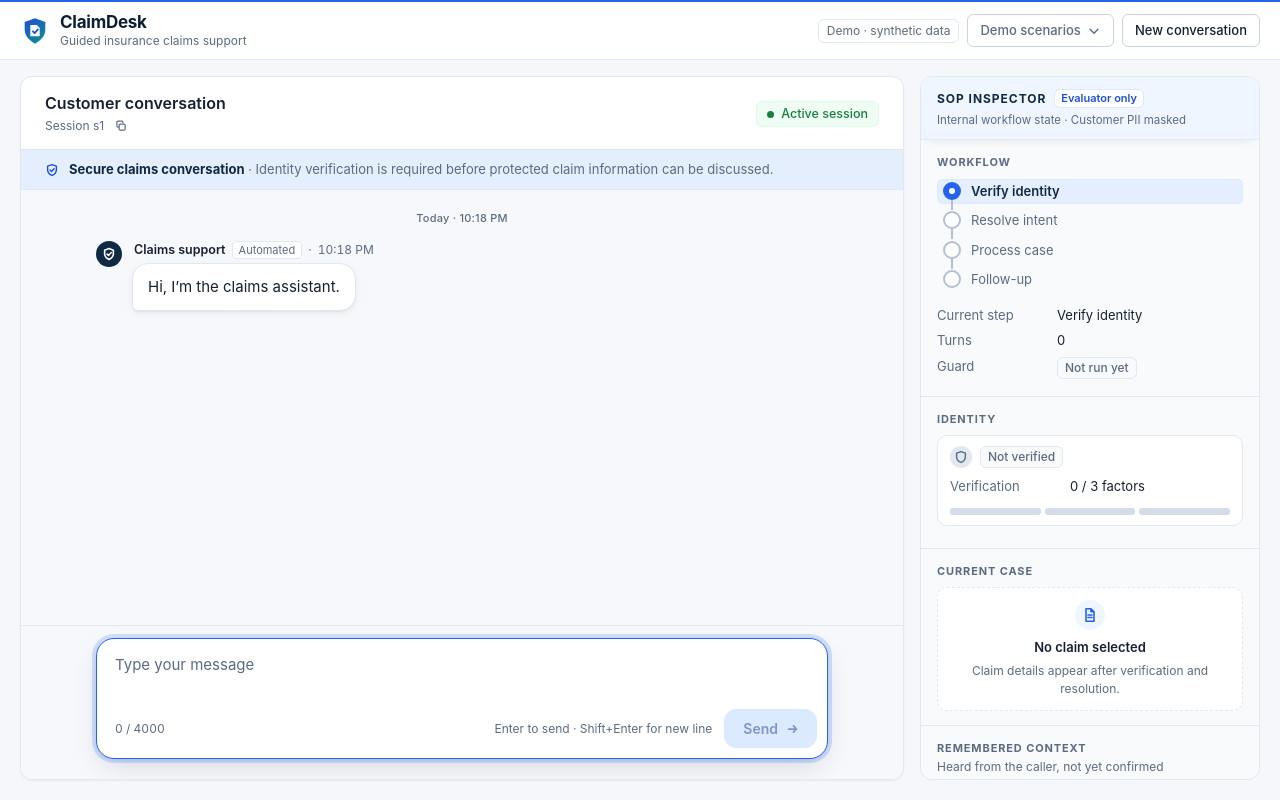
Test: availability › stays visible after the conversation ends
Check: the text "Hi, I’m the claims assistant." is shown, box [148,275,340,299]
In the text box labelled "your message": (462, 671) [97,639,827,703], type "that's all"
Then press Enter
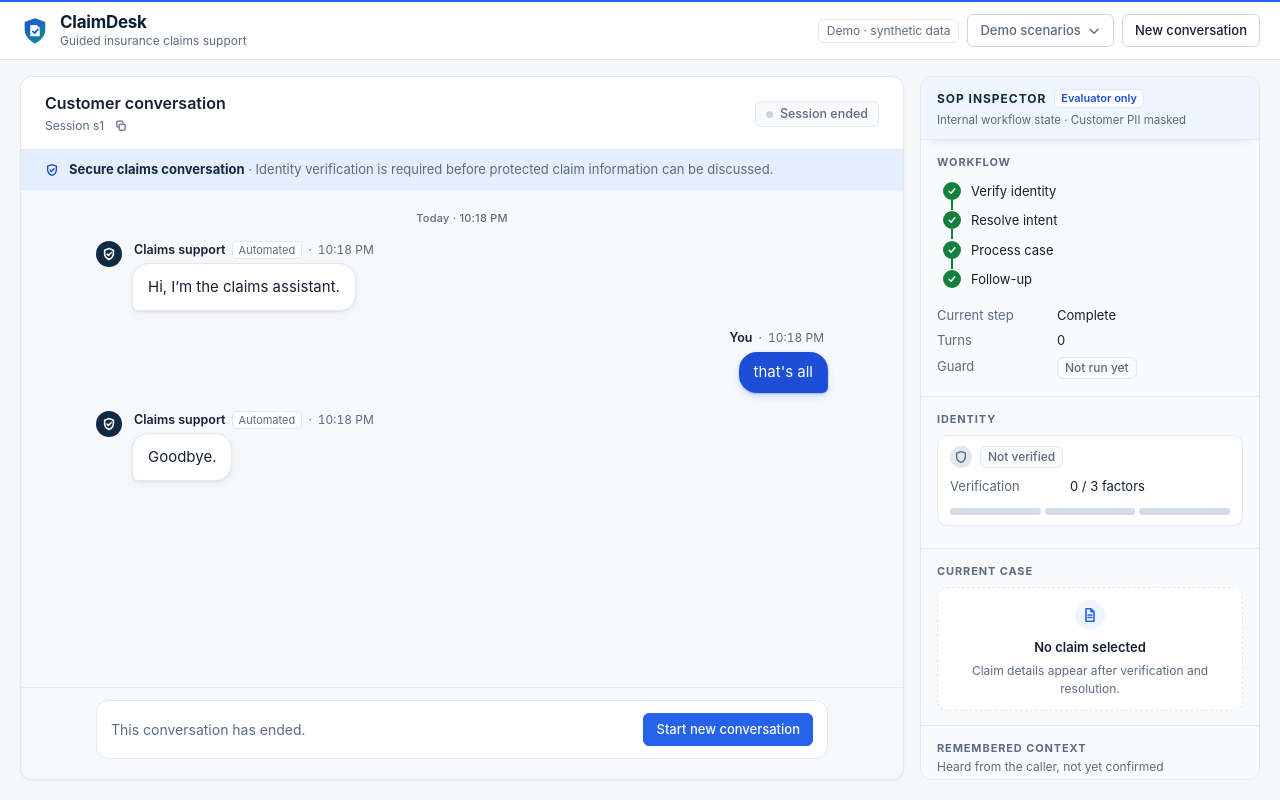
Check: the text "This conversation has ended." is shown, box [111,719,306,740]
Check: the text "Current step" shows "Complete", box [1057,307,1116,323]
